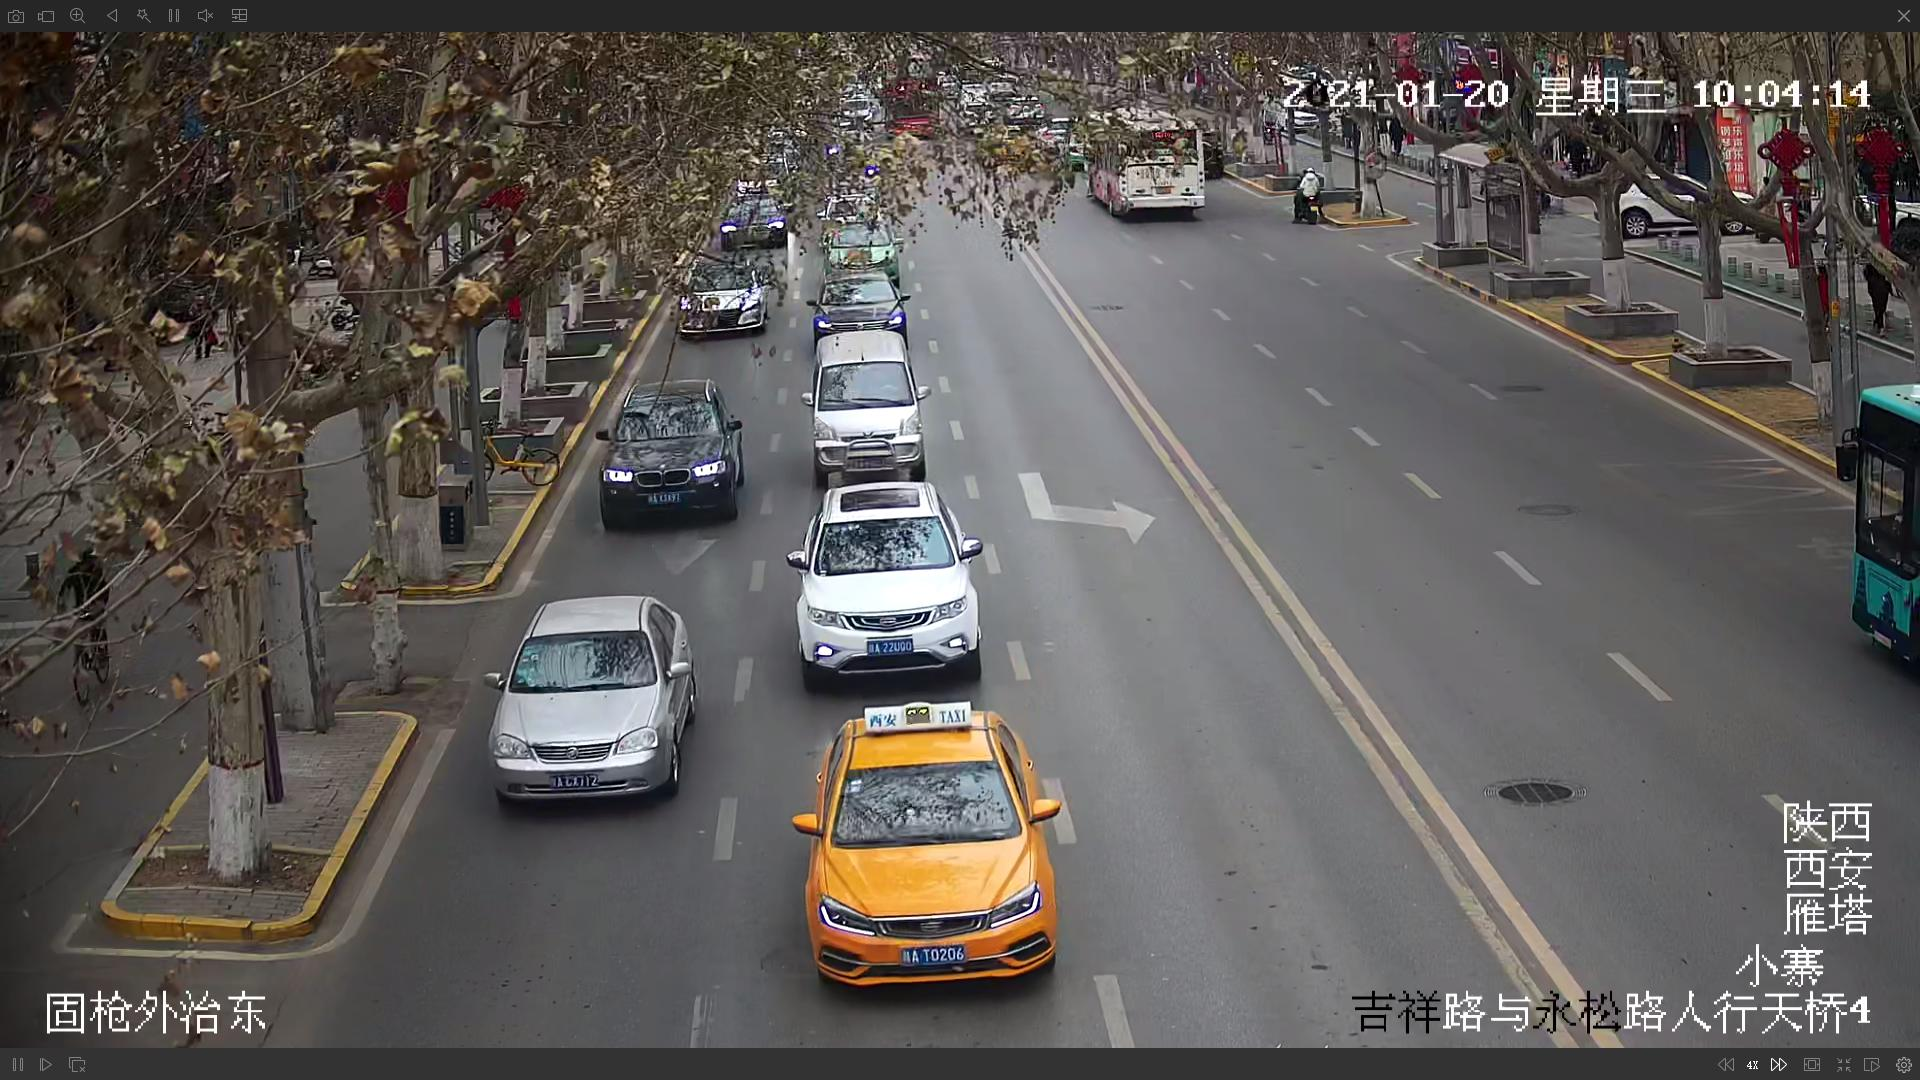black: (600, 385, 738, 531)
orange: (789, 712, 1062, 981)
silver-gray: (489, 599, 686, 807)
white: (785, 477, 986, 673)
